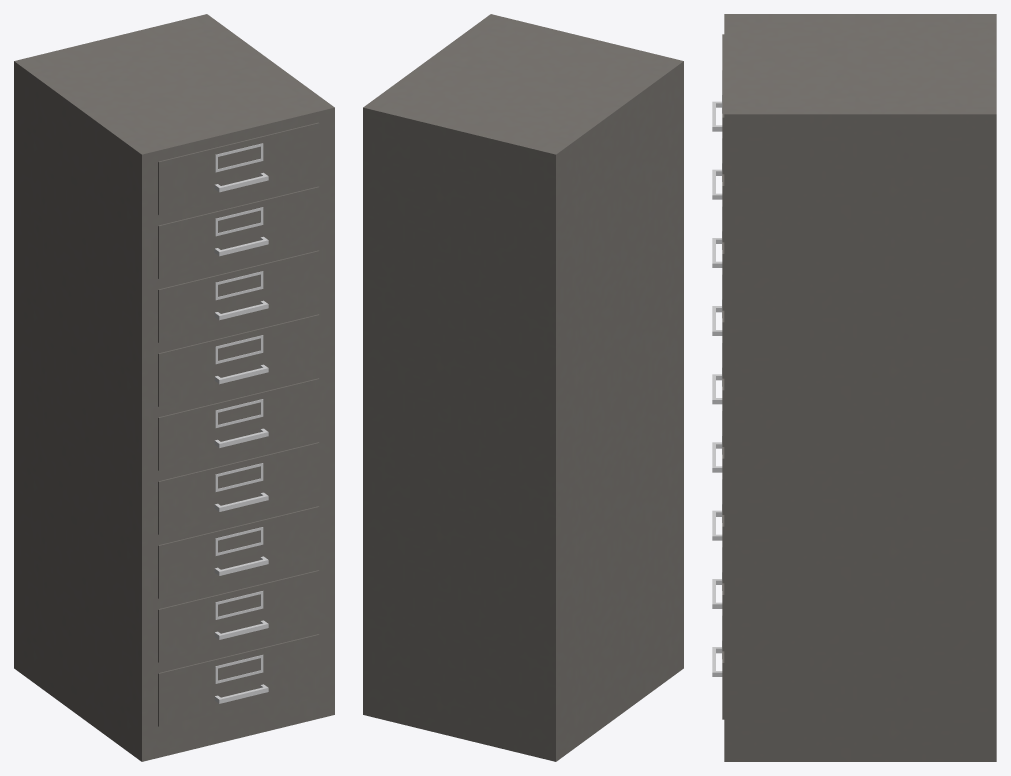
File: Drawer46.fbx
The picture shows the model from 3 angles, left to right: view 1: azimuth 30°, elevation 25°; view 2: azimuth 150°, elevation 25°; view 3: azimuth 270°, elevation 25°; orthographic projection. The views are drawn at different scales.
Parts seen in each view (by area): view 1: Drawer46_Body, Drawer46_5, Drawer46_9, Drawer46_1, Drawer46_4, Drawer46_6, Drawer46_7, Drawer46_8, Drawer46_2, Drawer46_3; view 2: Drawer46_Body; view 3: Drawer46_Body, Drawer46_1.
Part boxes in pixels (x1=…): Drawer46_Body: x1=14, y1=14, x2=334, y2=761; Drawer46_5: x1=158, y1=378, x2=319, y2=470; Drawer46_9: x1=158, y1=634, x2=319, y2=726; Drawer46_1: x1=158, y1=122, x2=319, y2=214; Drawer46_4: x1=158, y1=314, x2=319, y2=406; Drawer46_6: x1=158, y1=442, x2=319, y2=534; Drawer46_7: x1=158, y1=506, x2=319, y2=598; Drawer46_8: x1=158, y1=570, x2=319, y2=662; Drawer46_2: x1=158, y1=186, x2=319, y2=278; Drawer46_3: x1=158, y1=250, x2=319, y2=342; Drawer46_Body: x1=363, y1=14, x2=683, y2=761; Drawer46_Body: x1=724, y1=14, x2=996, y2=761; Drawer46_1: x1=712, y1=34, x2=724, y2=174.
Size of the model in its own units: 36.5 by 110 by 43.69.
